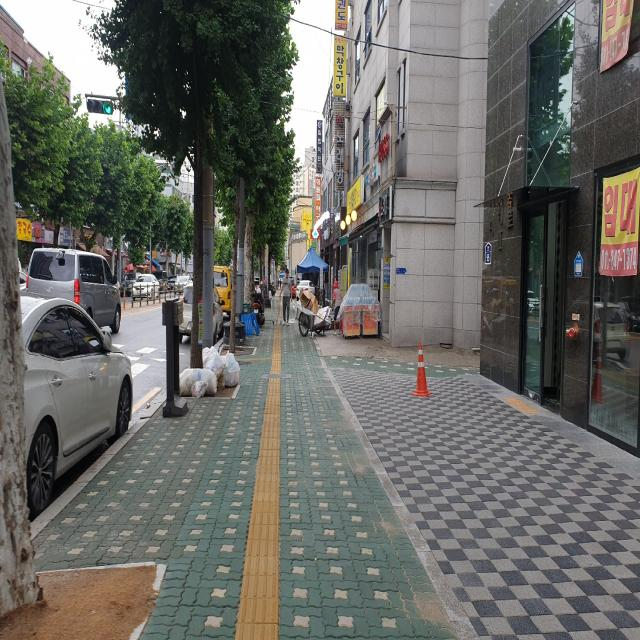car: (21, 297, 134, 516), (25, 248, 122, 336), (179, 283, 225, 346)
motorbike: (251, 280, 265, 328)
